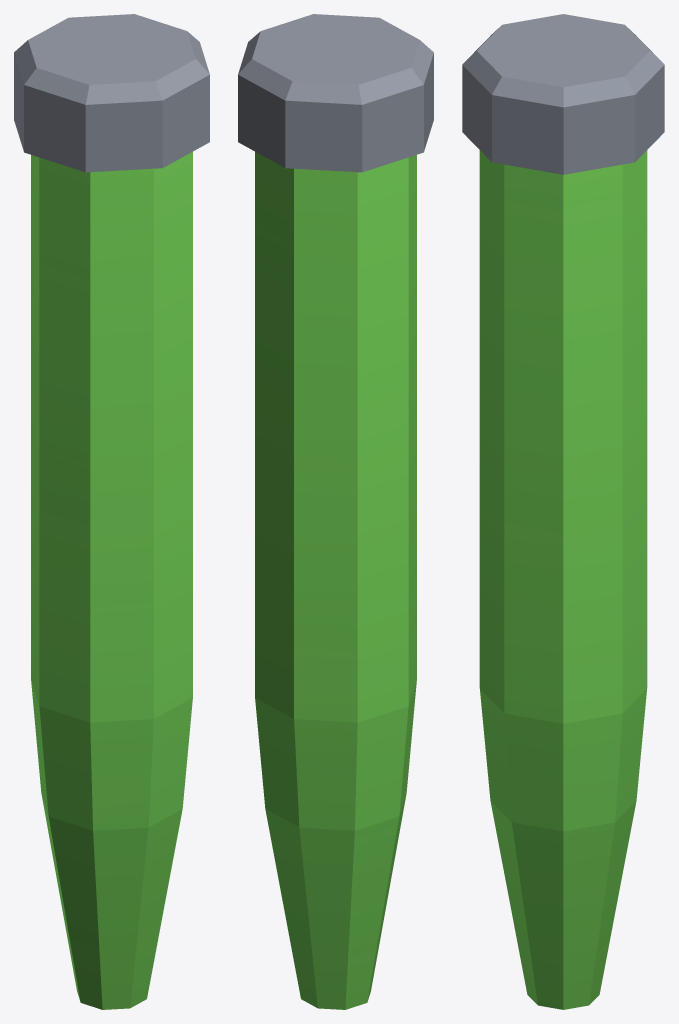
The model's file is SM_Props_Laboratory_15.fbx.
The picture shows the model from 3 angles, left to right: view 1: azimuth 30°, elevation 25°; view 2: azimuth 150°, elevation 25°; view 3: azimuth 270°, elevation 25°; orthographic projection.
Visible parts, largest first — view 1: SM_Props_Laboratory_15; view 2: SM_Props_Laboratory_15; view 3: SM_Props_Laboratory_15.
Boxes of the visible parts, left/top/right/bottom form: SM_Props_Laboratory_15: left=14, top=14, right=209, bottom=1009; SM_Props_Laboratory_15: left=238, top=14, right=433, bottom=1009; SM_Props_Laboratory_15: left=462, top=14, right=664, bottom=1009.
Bounding box in the file's own units: 0.0339 × 0.1745 × 0.0339.
